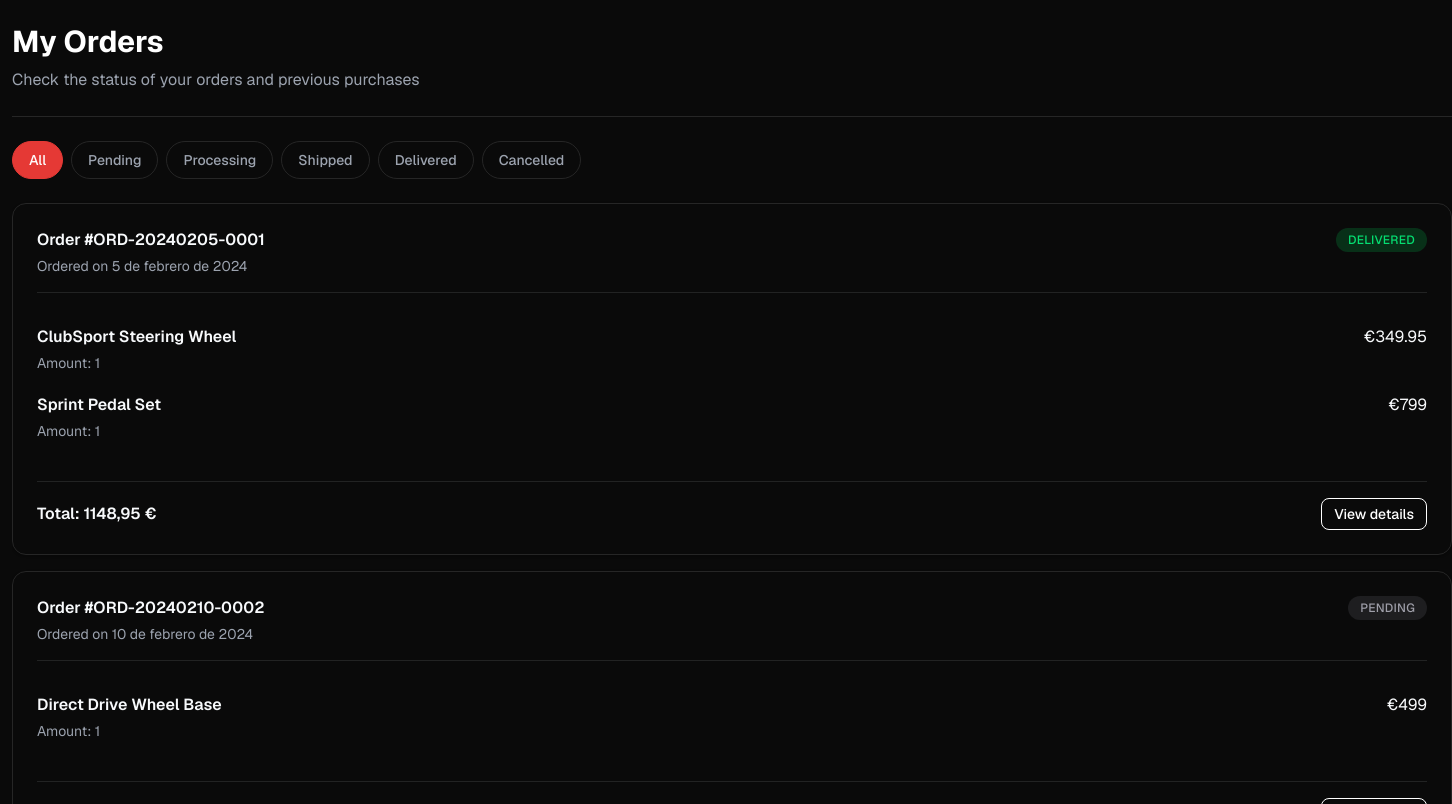
OrdersContent › filter chips › clicking Cancelled shows no orders for filter message
Expected: the text "Order #ORD-20240205-0001" is shown, x1=37 y1=228 x2=265 y2=252
Click the button "Cancelled" at [532, 160], box x1=482 y1=141 x2=581 y2=179
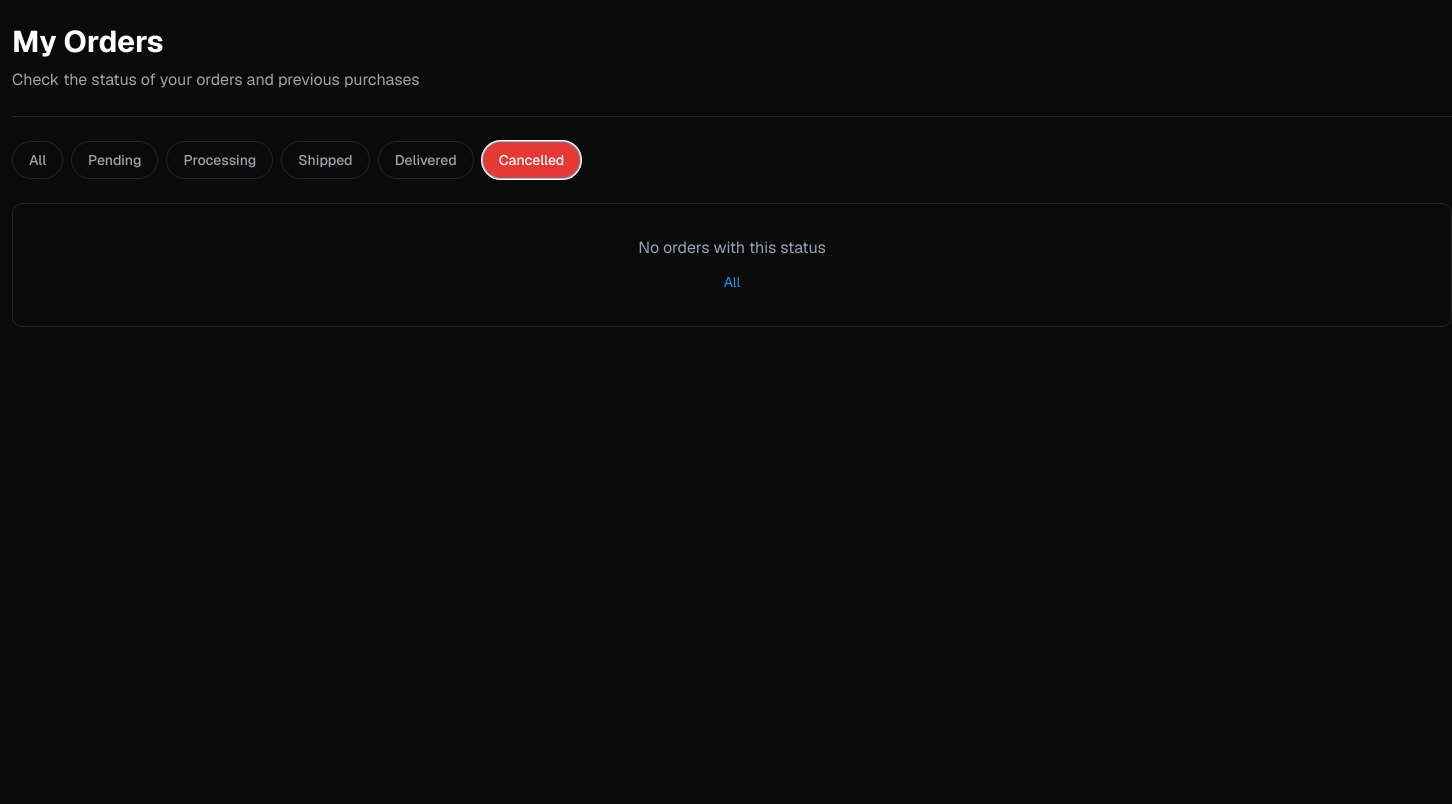
Expected: the text "No orders with this status" is shown, x1=638 y1=237 x2=826 y2=258
